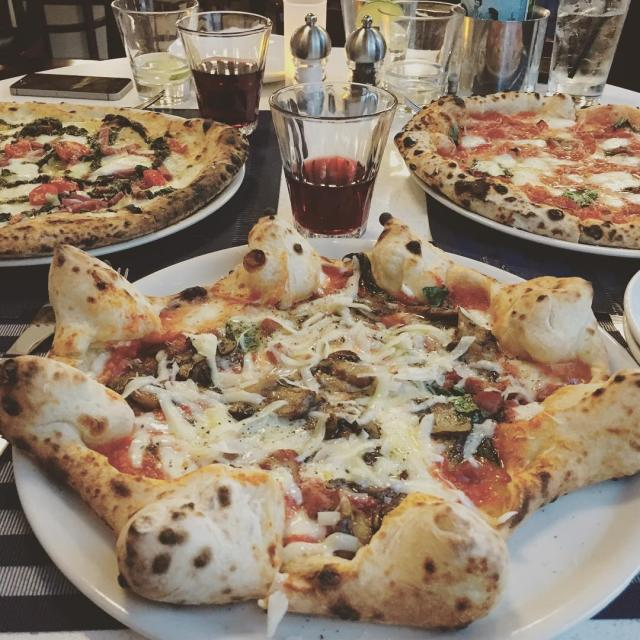basil: (562, 188, 598, 208), (612, 116, 639, 133), (449, 119, 460, 146)
mushrooms: (227, 386, 317, 419), (106, 367, 161, 412), (318, 350, 375, 390), (430, 402, 474, 438), (174, 348, 205, 378), (217, 336, 234, 356)
pizza: (0, 212, 640, 630), (0, 99, 249, 259), (394, 91, 640, 250)
tomatoes: (56, 141, 90, 161), (29, 184, 58, 205), (49, 177, 86, 192), (3, 140, 33, 156), (143, 170, 167, 186), (169, 139, 189, 154)
